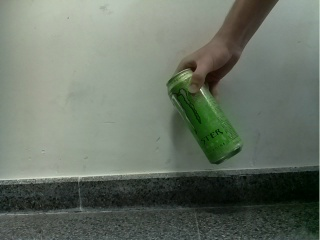botella plastico: (166, 68, 244, 166)
